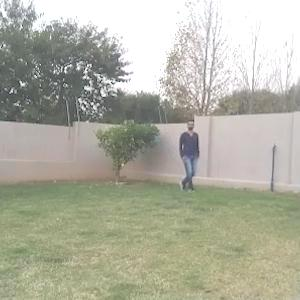follow: (181, 121, 199, 194)
